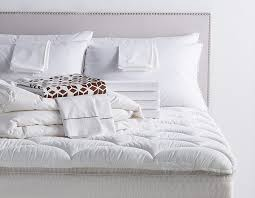bed-matress: (1, 87, 237, 198)
